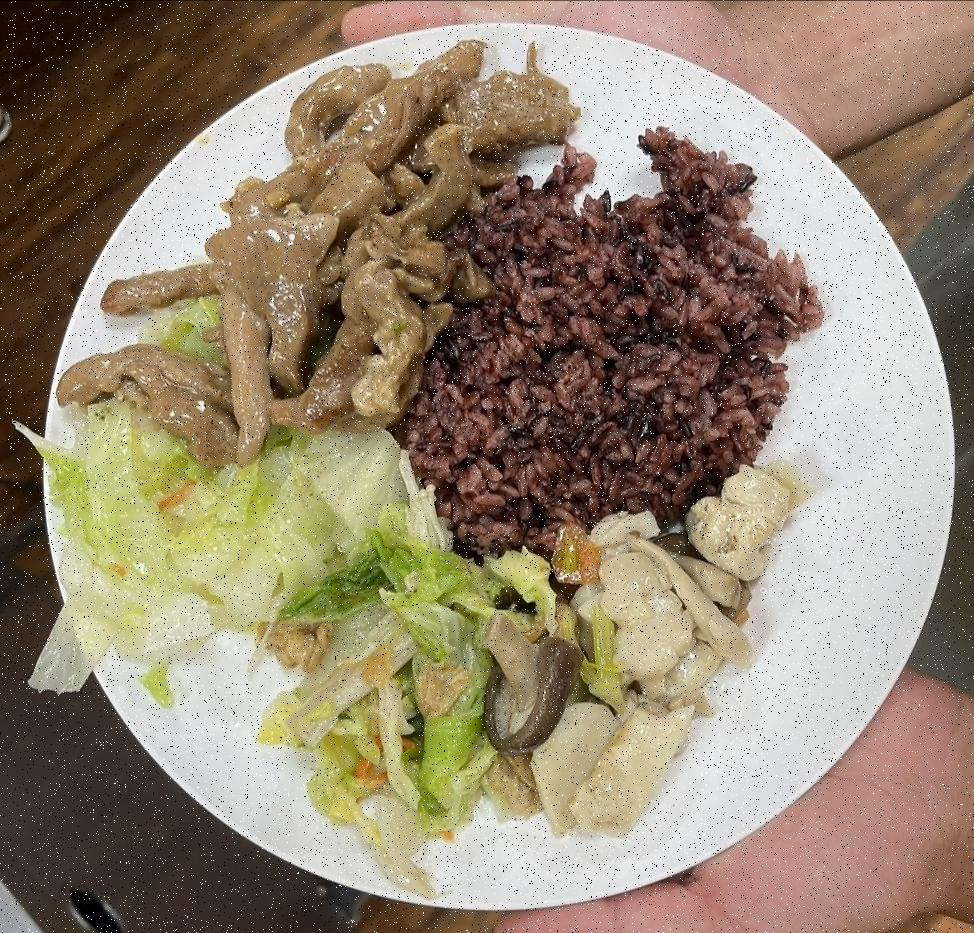big fried chicken leg: (14, 14, 954, 919)
braised fish: (423, 138, 810, 538)
braised fish fillet: (50, 405, 489, 860), (485, 472, 795, 839)
braised pork: (56, 45, 558, 434)
